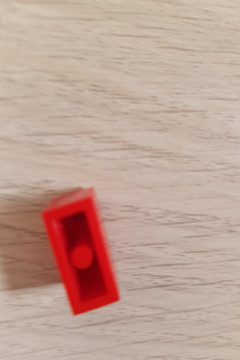1x2 red: (40, 187, 122, 317)
